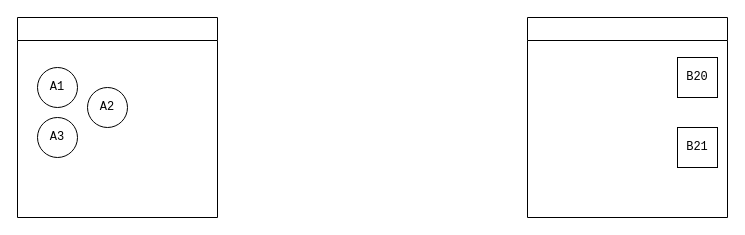
Some shapes in this 745 by 235 pixel diagram are drawn without their labels. The box of each missing label's shape, as (x1, y1, x2, y2) in pixels:
Calendar: (16, 16, 218, 218)
TODO Task Manager: (526, 16, 728, 218)
